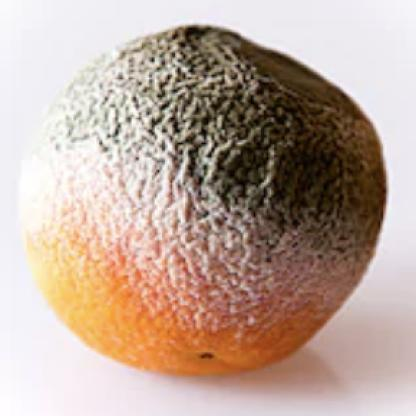rotten: (34, 28, 385, 380)
